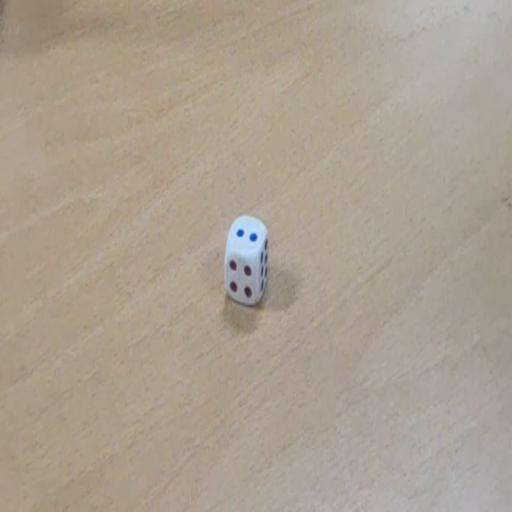dice_2: (223, 213, 271, 309)
